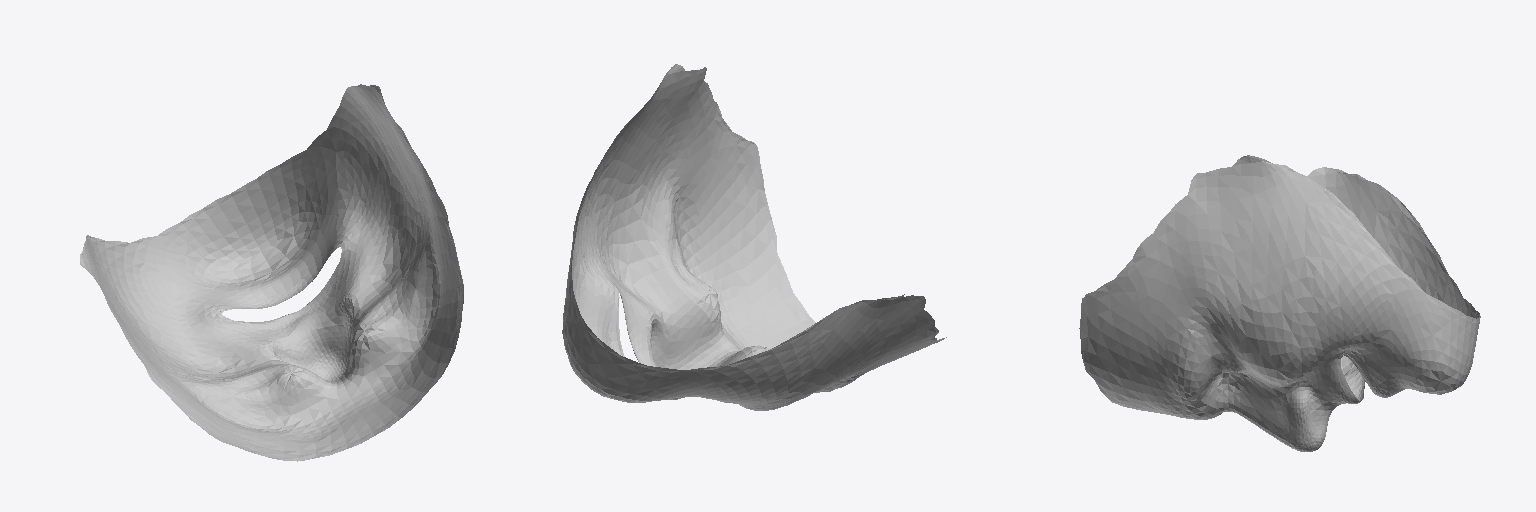
File: face_gab_sfm107.obj
3 views of the same model, side by side, from view 1: azimuth 30°, elevation 25°; view 2: azimuth 150°, elevation 25°; view 3: azimuth 270°, elevation 25° (orthographic).
Size of the model in its own units: 168 by 160 by 190.